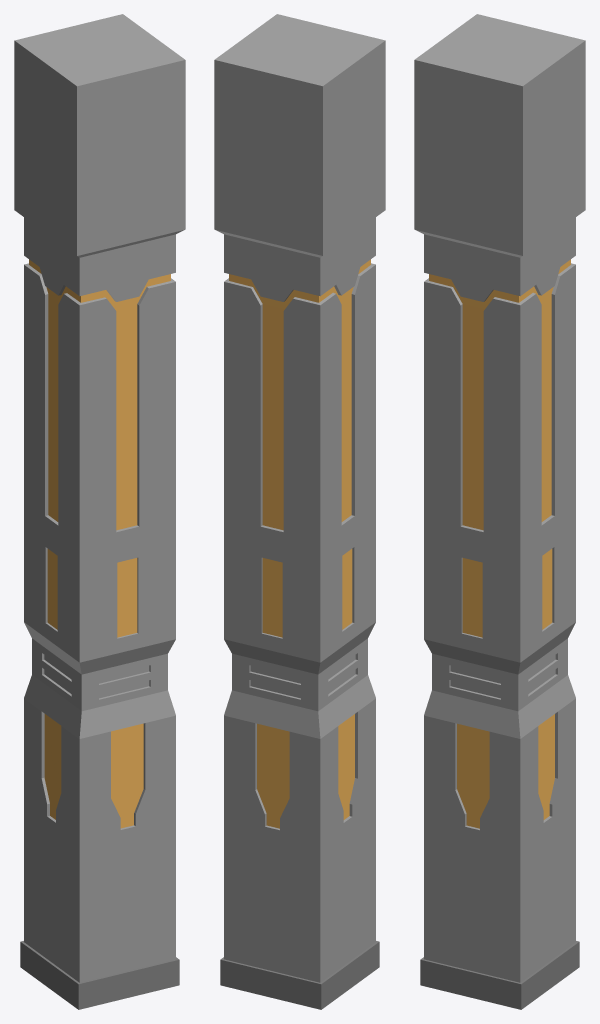
File: column_3.023_lev3.glb
3 renders of one model, left to right at view 1: azimuth 30°, elevation 25°; view 2: azimuth 150°, elevation 25°; view 3: azimuth 330°, elevation 25°, orthographic.
Parts seen in each view (by area): view 1: column_3.023_lev3; view 2: column_3.023_lev3; view 3: column_3.023_lev3.
Boxes of the visible parts, <box> form: column_3.023_lev3: <box>14,14,185,1009</box>; column_3.023_lev3: <box>214,14,385,1009</box>; column_3.023_lev3: <box>414,14,585,1009</box>.
Bounding box in the file's own units: 0.5474 × 4.46 × 0.5474.
